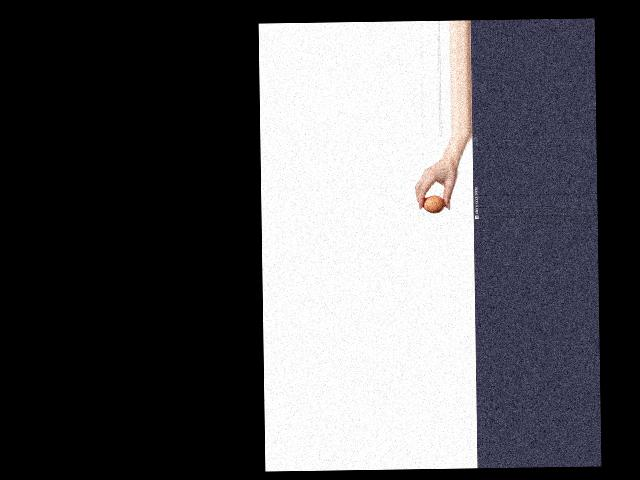egg: (423, 194, 445, 213)
